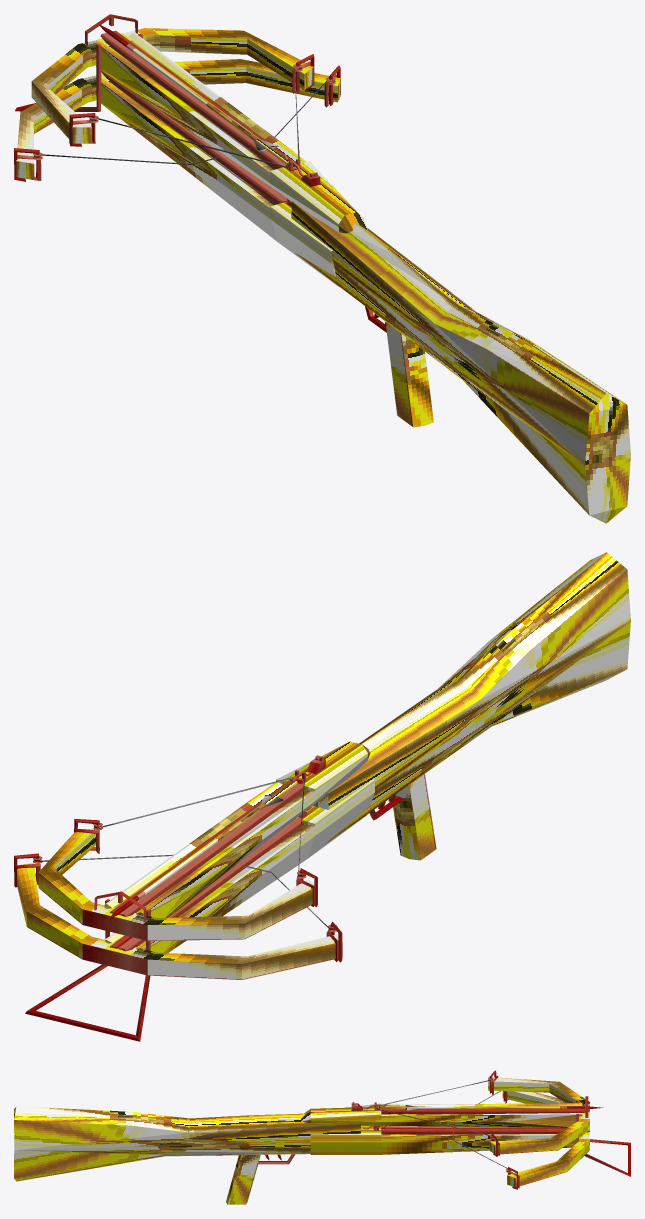
The model's file is double_crossbow_stretching_lower_3.obj.
3 views of the same model, one above another, from view 1: azimuth 30°, elevation 25°; view 2: azimuth 150°, elevation 25°; view 3: azimuth 270°, elevation 25° (orthographic). The views are drawn at different scales.
Visible parts, largest first — view 1: Torus.009_Torus.008, Torus.000, Torus.001_Torus.007, Torus.002_Torus.009; view 2: Torus.009_Torus.008, Torus.000, Torus.001_Torus.007, Torus.002_Torus.009; view 3: Torus.009_Torus.008, Torus.000, Torus.001_Torus.007, Torus.002_Torus.009.
Boxes of the visible parts, left/top/right/bottom form: Torus.009_Torus.008: left=283, top=153, right=630, bottom=523; Torus.000: left=15, top=14, right=367, bottom=287; Torus.001_Torus.007: left=14, top=28, right=340, bottom=181; Torus.002_Torus.009: left=100, top=25, right=289, bottom=164; Torus.009_Torus.008: left=289, top=552, right=630, bottom=860; Torus.000: left=25, top=741, right=374, bottom=1041; Torus.001_Torus.007: left=14, top=777, right=342, bottom=979; Torus.002_Torus.009: left=106, top=781, right=297, bottom=920; Torus.009_Torus.008: left=14, top=1102, right=386, bottom=1204; Torus.000: left=301, top=1096, right=630, bottom=1176; Torus.001_Torus.007: left=376, top=1070, right=589, bottom=1189; Torus.002_Torus.009: left=381, top=1105, right=603, bottom=1110.
Bounding box in the file's own units: 2.76 × 1.45 × 7.77.
